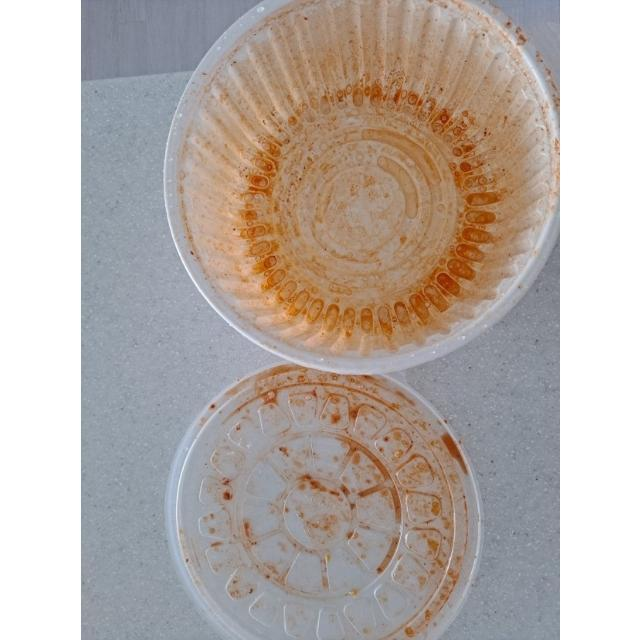Recipiente plastico: (158, 0, 565, 372), (160, 368, 488, 638)
